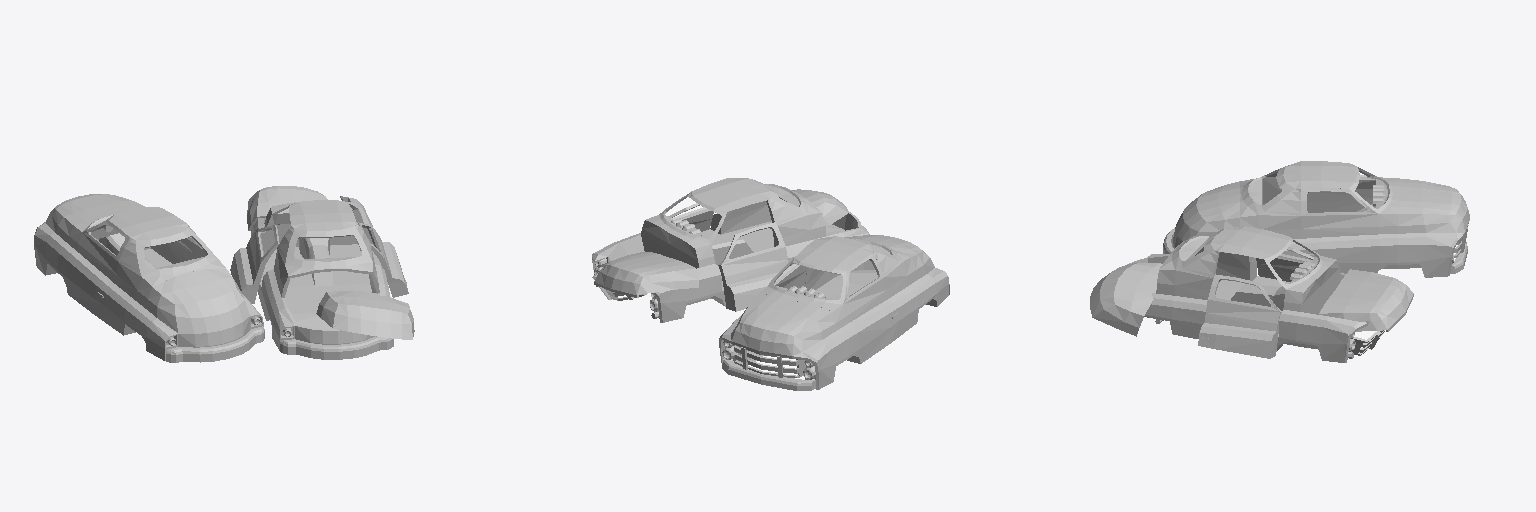
Rendered from Cars.obj.
3 renders of one model, left to right at view 1: azimuth 30°, elevation 25°; view 2: azimuth 150°, elevation 25°; view 3: azimuth 270°, elevation 25°, orthographic.
Visible parts, largest first — view 1: Object004_Material #50_0, Object00a_Material #50_0, Object007_Material #50_0, Object006_Material #50_0, Object008_Material #50_0, Object011_Material #50_0, Object005_Material #50_0; view 2: Object004_Material #50_0, Object00a_Material #50_0, Object008_Material #50_0, Object006_Material #50_0, Object009_Material #50_0, Object010_Material #50_0, Object007_Material #50_0, Object005_Material #50_0; view 3: Object004_Material #50_0, Object00a_Material #50_0, Object005_Material #50_0, Object008_Material #50_0, Object007_Material #50_0, Object006_Material #50_0.
Part boxes in pixels (bbox=[...]): Object004_Material #50_0: bbox=[230, 186, 414, 359]; Object00a_Material #50_0: bbox=[34, 207, 263, 360]; Object007_Material #50_0: bbox=[147, 269, 249, 333]; Object006_Material #50_0: bbox=[66, 220, 129, 304]; Object008_Material #50_0: bbox=[46, 194, 144, 242]; Object011_Material #50_0: bbox=[166, 326, 264, 362]; Object005_Material #50_0: bbox=[159, 237, 196, 263]; Object004_Material #50_0: bbox=[592, 178, 869, 322]; Object00a_Material #50_0: bbox=[719, 236, 948, 389]; Object008_Material #50_0: bbox=[731, 294, 837, 358]; Object006_Material #50_0: bbox=[843, 253, 898, 348]; Object009_Material #50_0: bbox=[734, 345, 805, 377]; Object010_Material #50_0: bbox=[722, 358, 815, 390]; Object007_Material #50_0: bbox=[844, 235, 934, 278]; Object005_Material #50_0: bbox=[774, 264, 806, 288]; Object004_Material #50_0: bbox=[1090, 226, 1413, 362]; Object00a_Material #50_0: bbox=[1173, 161, 1464, 277]; Object005_Material #50_0: bbox=[1301, 188, 1378, 262]; Object008_Material #50_0: bbox=[1398, 178, 1469, 233]; Object007_Material #50_0: bbox=[1175, 181, 1239, 240]; Object006_Material #50_0: bbox=[1307, 170, 1375, 212].
Size of the model in its own units: 235 by 64.35 by 273.